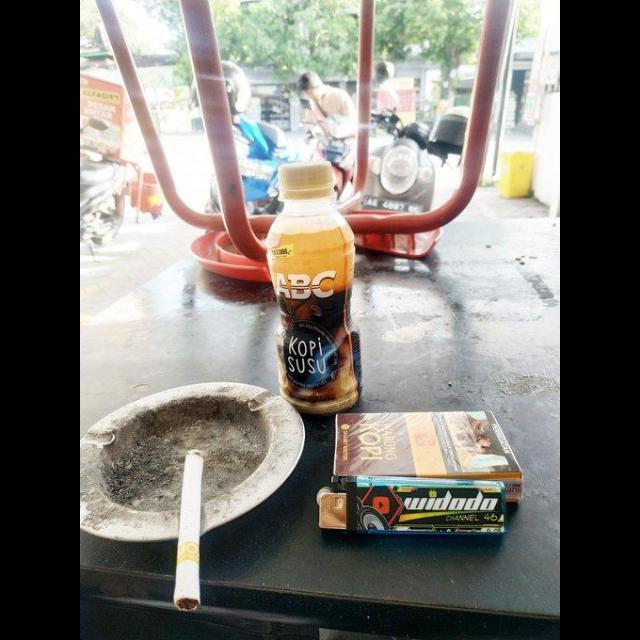rokok: (178, 442, 215, 610)
